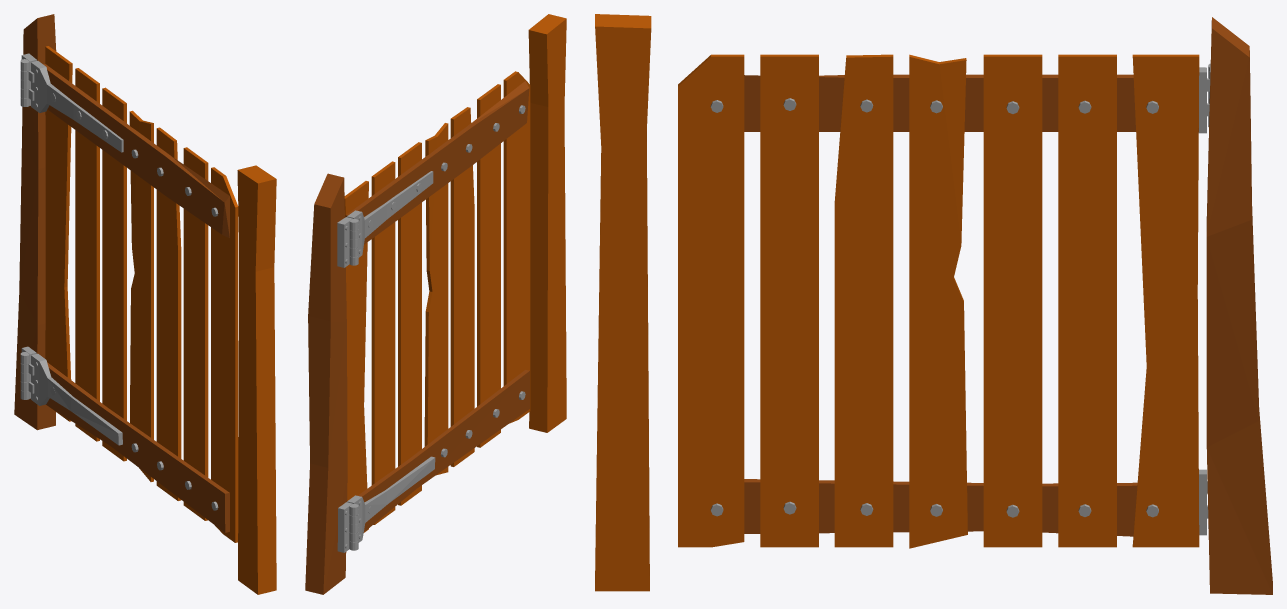
File: FenceGate.fbx
The picture shows the model from 3 angles, left to right: view 1: azimuth 30°, elevation 25°; view 2: azimuth 150°, elevation 25°; view 3: azimuth 270°, elevation 25°; orthographic projection. The views are drawn at different scales.
Parts seen in each view (by area): view 1: FenceGate, FenceGateFrame; view 2: FenceGate, FenceGateFrame; view 3: FenceGate, FenceGateFrame.
Part boxes in pixels (bbox=[...]): FenceGate: bbox=[20, 46, 238, 542]; FenceGateFrame: bbox=[14, 14, 276, 594]; FenceGate: bbox=[344, 71, 530, 542]; FenceGateFrame: bbox=[305, 14, 566, 594]; FenceGate: bbox=[678, 54, 1209, 548]; FenceGateFrame: bbox=[595, 14, 1272, 594].
Bounding box in the file's own units: 49.9 × 523 × 568.
